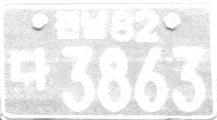2: (135, 9, 161, 44)
3: (58, 45, 97, 114), (170, 45, 207, 112)
6: (131, 46, 168, 113)
8: (96, 45, 132, 113), (110, 9, 136, 42)
다: (10, 47, 53, 90)
전남_O: (52, 9, 109, 40)
